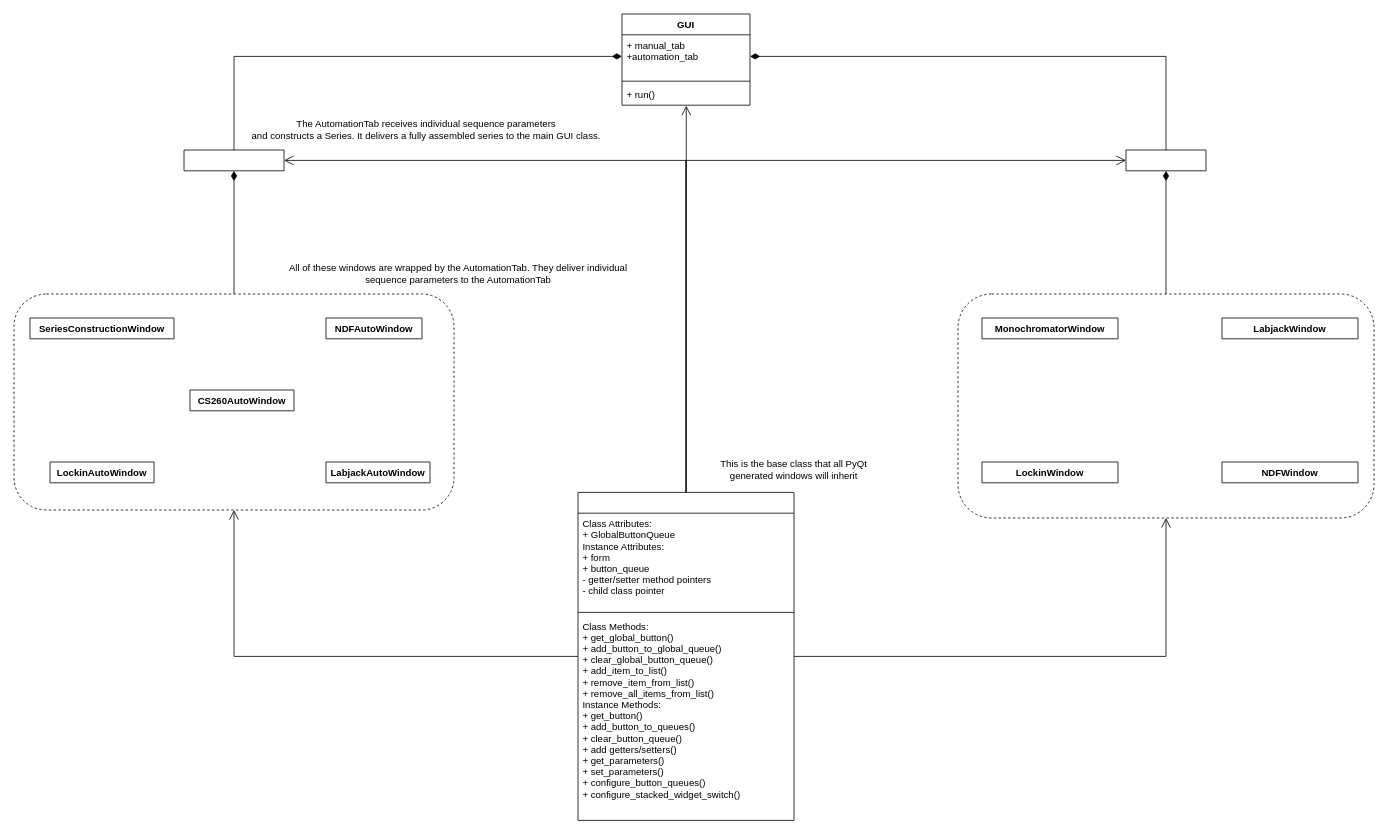
The diagram is 1388 pixels wide and 837 high, and some of its shapes have lost their labels. The box of each missing label's shape, as (x1, y1, x2, y2) in pixels:
AutomationTab: (183, 149, 284, 171)
GuiTab: (577, 492, 794, 820)
ManualTab: (1125, 149, 1206, 171)
